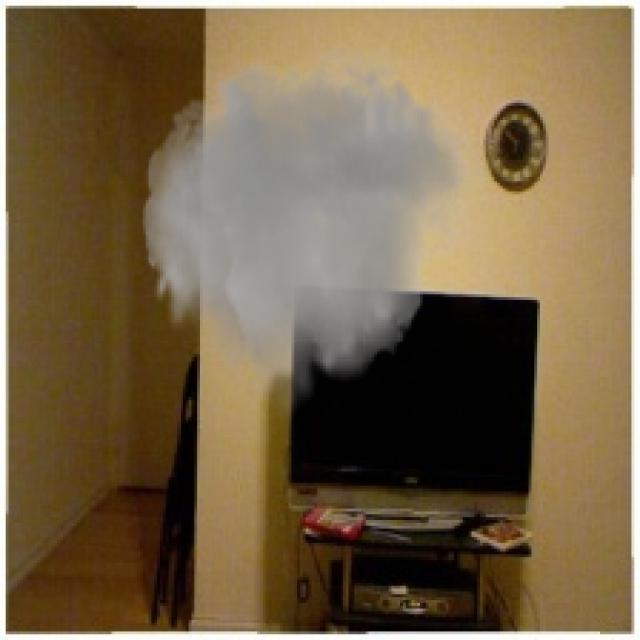smoke: (134, 28, 494, 426)
